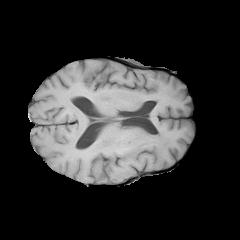glioma: (86, 125, 171, 178)
